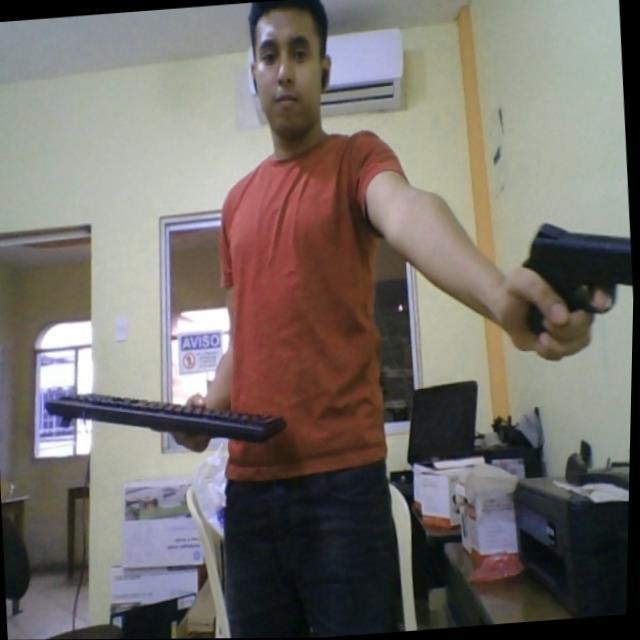weapon: (507, 215, 636, 348)
